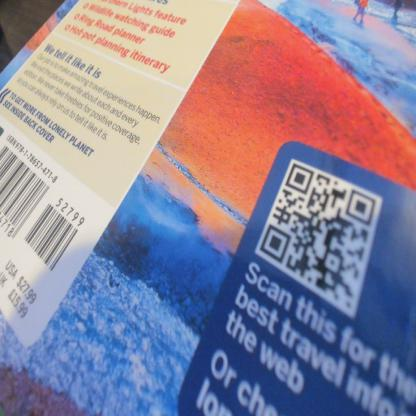barcode: (21, 195, 88, 277), (1, 140, 54, 240)
qr: (258, 160, 384, 315)
